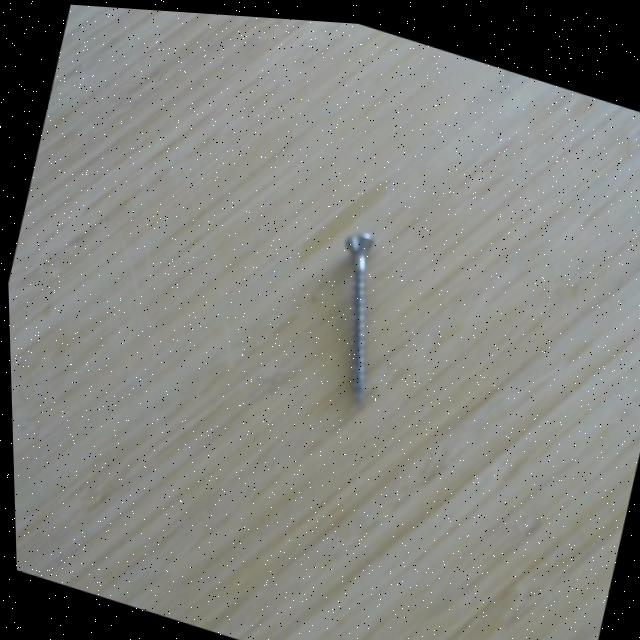Black screw: (339, 221, 383, 406)
